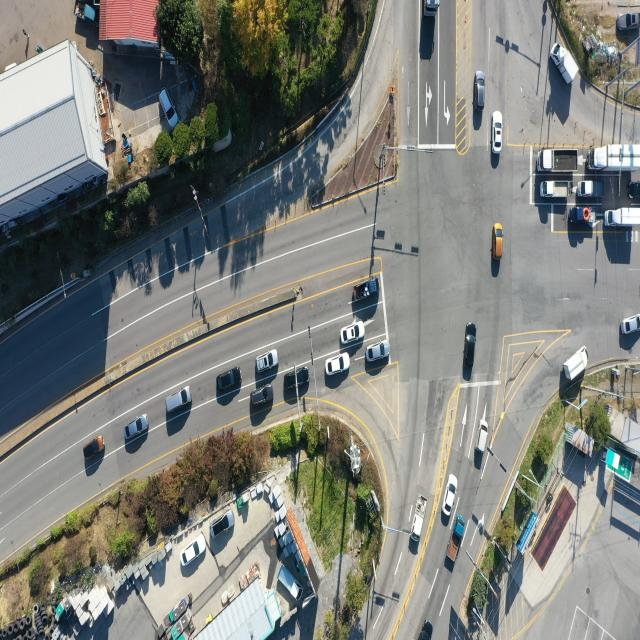car: (182, 534, 207, 568), (158, 88, 178, 130), (283, 366, 310, 394), (166, 385, 192, 414), (211, 510, 234, 538), (324, 352, 350, 376), (215, 368, 241, 392), (444, 475, 458, 517), (467, 330, 478, 383), (126, 416, 150, 440), (365, 341, 390, 364), (474, 417, 489, 454), (341, 321, 365, 344), (254, 349, 278, 372), (250, 385, 274, 408), (84, 436, 105, 458), (492, 113, 503, 154), (617, 12, 640, 30), (621, 314, 640, 335), (476, 71, 486, 109), (494, 224, 503, 261), (418, 620, 433, 640), (627, 181, 640, 199)
large_truck: (422, 0, 440, 18)
medium_truck: (605, 205, 640, 228)
small_truck: (551, 43, 577, 87), (537, 150, 579, 173), (563, 345, 589, 382), (446, 515, 465, 564), (73, 0, 100, 29), (412, 496, 427, 544), (352, 276, 378, 303), (278, 568, 300, 598), (542, 182, 573, 202), (579, 178, 606, 198), (570, 206, 594, 224)
